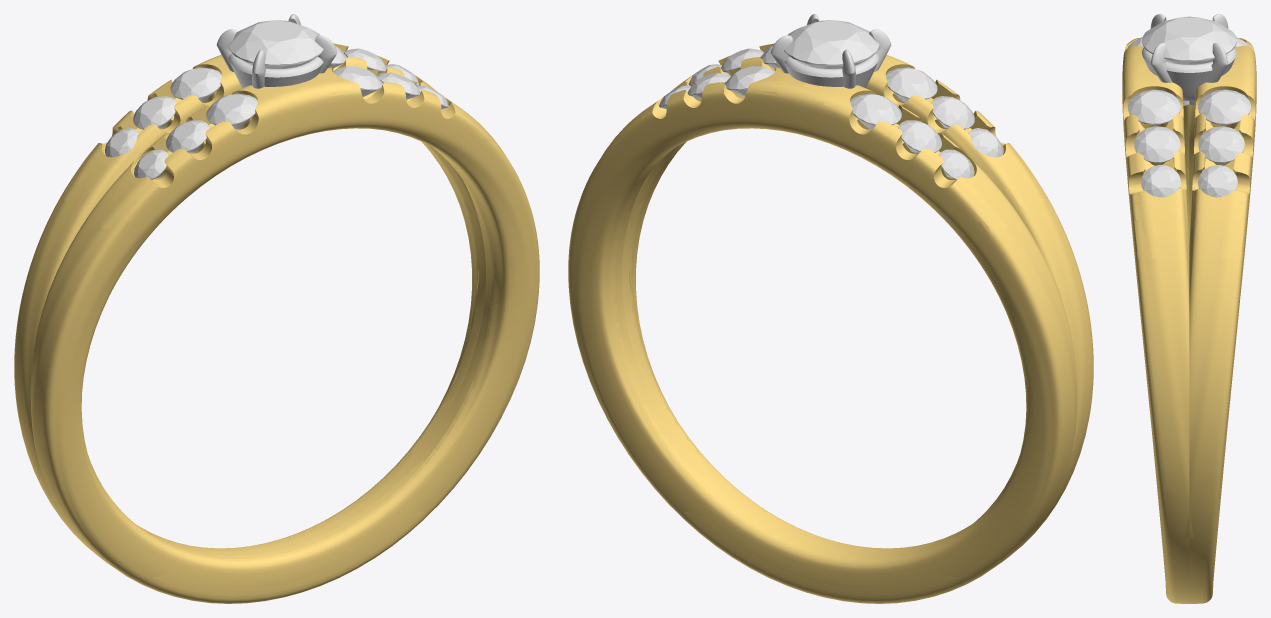
File: StephanieV2yg_blender.glb
The picture shows the model from 3 angles, left to right: view 1: azimuth 30°, elevation 25°; view 2: azimuth 150°, elevation 25°; view 3: azimuth 270°, elevation 25°; orthographic projection.
Visible parts, largest first — view 1: Stephanie YG for 3d model, V2 Stephanie dia for 3d model, V2 Stephanie PT for 3d model, V2 Stephanie dia for 3d model.003, V2 Stephanie dia for 3d model.012, V2 Stephanie dia for 3d model.002, V2 Stephanie dia for 3d model.011, V2 Stephanie dia for 3d model.009, V2 Stephanie dia for 3d model.010, V2 Stephanie dia for 3d model.001; view 2: Stephanie YG for 3d model, V2 Stephanie dia for 3d model, V2 Stephanie PT for 3d model, V2 Stephanie dia for 3d model.012, V2 Stephanie dia for 3d model.003, V2 Stephanie dia for 3d model.011, V2 Stephanie dia for 3d model.002, V2 Stephanie dia for 3d model.006, V2 Stephanie dia for 3d model.001, V2 Stephanie dia for 3d model.010; view 3: Stephanie YG for 3d model, V2 Stephanie dia for 3d model, V2 Stephanie PT for 3d model, V2 Stephanie dia for 3d model.006, V2 Stephanie dia for 3d model.009, V2 Stephanie dia for 3d model.005, V2 Stephanie dia for 3d model.008, V2 Stephanie dia for 3d model.004, V2 Stephanie dia for 3d model.007.
Boxes of the visible parts, box(x1,y1,x2,y2) form: Stephanie YG for 3d model: box(14, 43, 539, 603); V2 Stephanie dia for 3d model: box(228, 20, 323, 68); V2 Stephanie PT for 3d model: box(216, 14, 337, 88); V2 Stephanie dia for 3d model.003: box(170, 67, 221, 102); V2 Stephanie dia for 3d model.012: box(206, 93, 257, 129); V2 Stephanie dia for 3d model.002: box(133, 96, 176, 129); V2 Stephanie dia for 3d model.011: box(166, 120, 209, 152); V2 Stephanie dia for 3d model.009: box(332, 66, 382, 96); V2 Stephanie dia for 3d model.010: box(134, 149, 168, 179); V2 Stephanie dia for 3d model.001: box(105, 128, 139, 157); Stephanie YG for 3d model: box(568, 43, 1093, 603); V2 Stephanie dia for 3d model: box(784, 20, 879, 68); V2 Stephanie PT for 3d model: box(770, 14, 891, 88); V2 Stephanie dia for 3d model.012: box(886, 67, 937, 102); V2 Stephanie dia for 3d model.003: box(850, 93, 901, 129); V2 Stephanie dia for 3d model.011: box(931, 96, 974, 129); V2 Stephanie dia for 3d model.002: box(898, 120, 941, 152); V2 Stephanie dia for 3d model.006: box(725, 66, 775, 96); V2 Stephanie dia for 3d model.001: box(939, 149, 973, 179); V2 Stephanie dia for 3d model.010: box(968, 128, 1002, 157); Stephanie YG for 3d model: box(1122, 38, 1256, 603); V2 Stephanie dia for 3d model: box(1142, 16, 1236, 64); V2 Stephanie PT for 3d model: box(1142, 14, 1236, 105); V2 Stephanie dia for 3d model.006: box(1198, 89, 1250, 125); V2 Stephanie dia for 3d model.009: box(1128, 89, 1180, 125); V2 Stephanie dia for 3d model.005: box(1198, 126, 1244, 162); V2 Stephanie dia for 3d model.008: box(1134, 126, 1180, 162); V2 Stephanie dia for 3d model.004: box(1198, 165, 1237, 197); V2 Stephanie dia for 3d model.007: box(1141, 165, 1180, 197).
Size of the model in its own units: 21.25 by 22.94 by 5.08.
